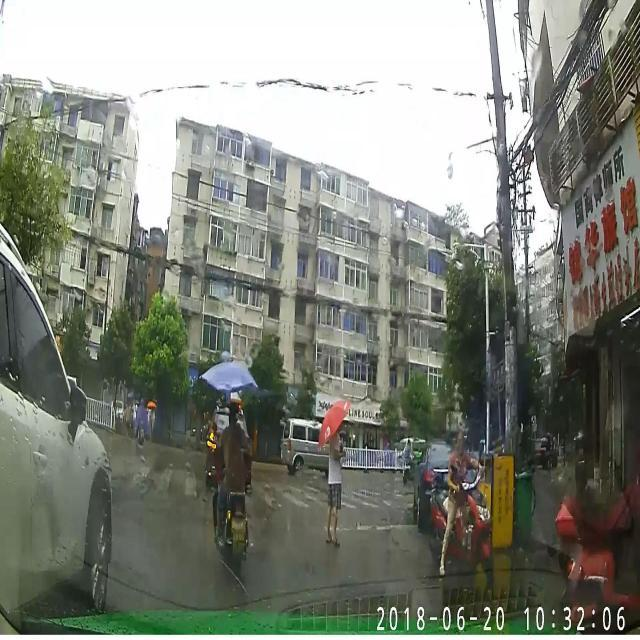car: (0, 227, 111, 612), (412, 440, 464, 523)
